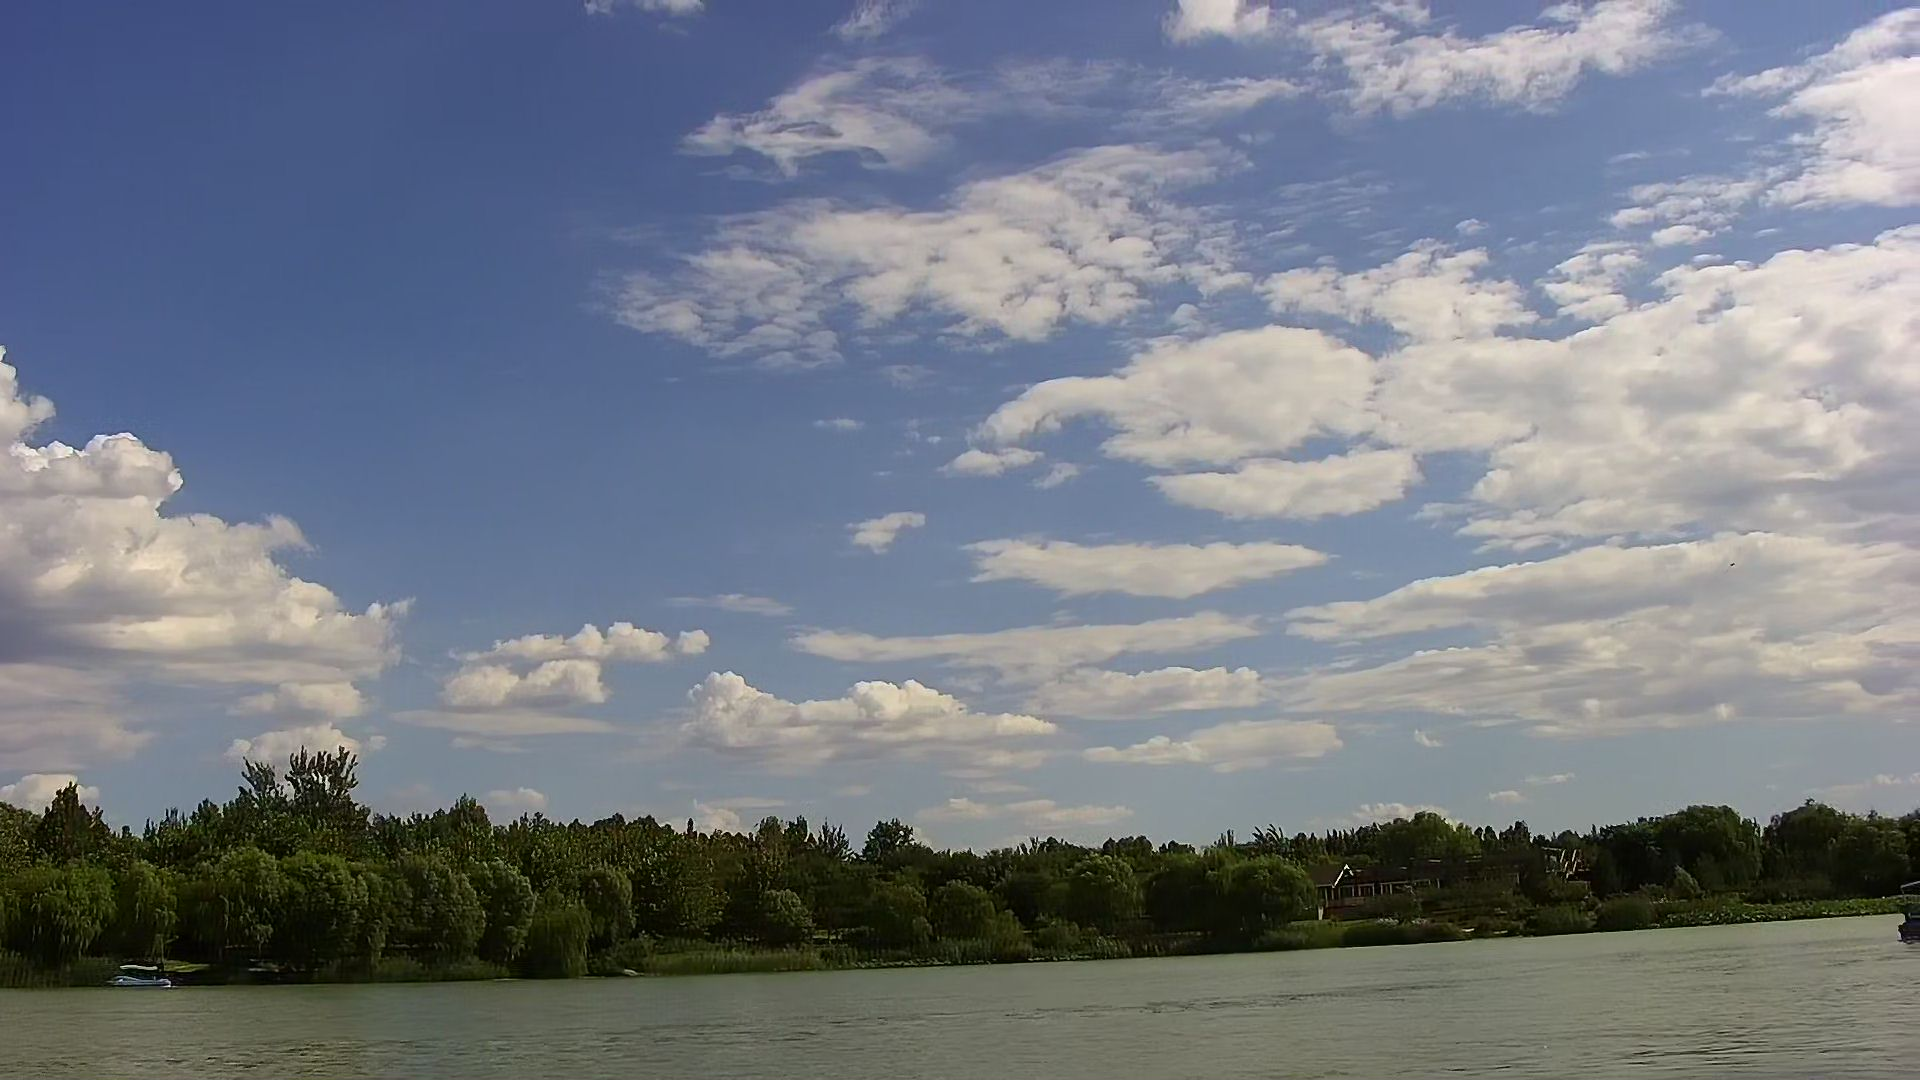boat: (104, 959, 175, 994)
